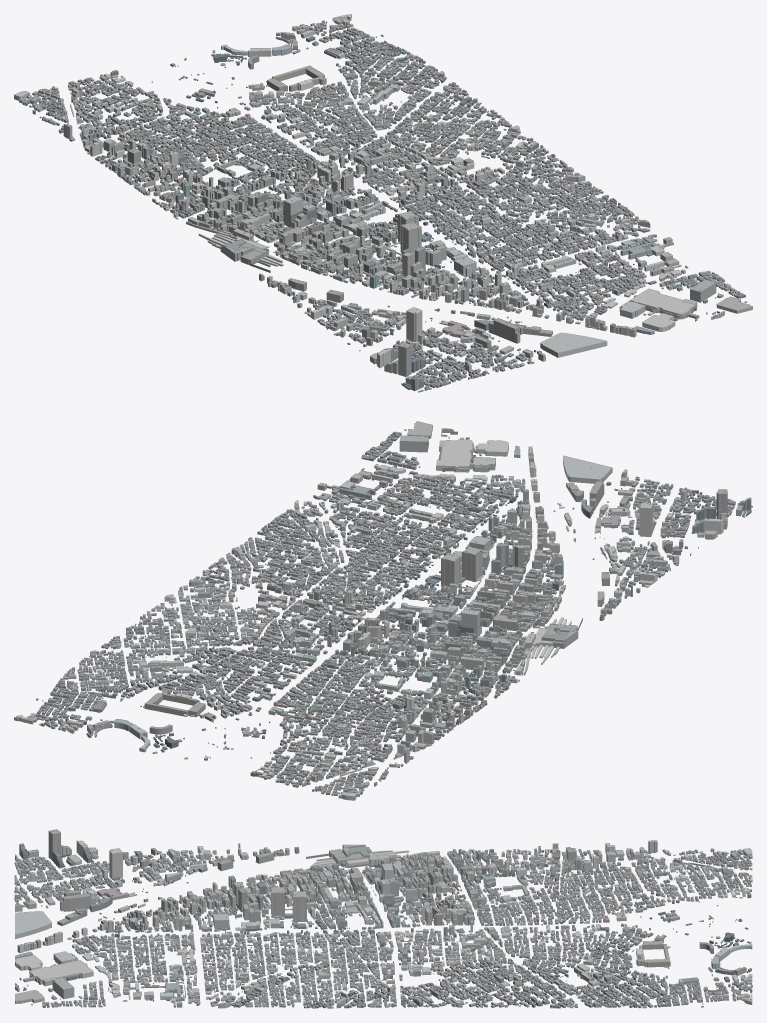
Rendered from buildings.glb.
3 views of the same model, one above another, from view 1: azimuth 30°, elevation 25°; view 2: azimuth 150°, elevation 25°; view 3: azimuth 270°, elevation 25° (orthographic). The views are drawn at different scales.
Visible parts, largest first — view 1: geometry_0; view 2: geometry_0; view 3: geometry_0.
Part boxes in pixels (bbox=[...]): geometry_0: bbox=[14, 14, 752, 392]; geometry_0: bbox=[14, 421, 752, 800]; geometry_0: bbox=[14, 829, 752, 1008].
Size of the model in its own units: 1359 by 119 by 2714.
